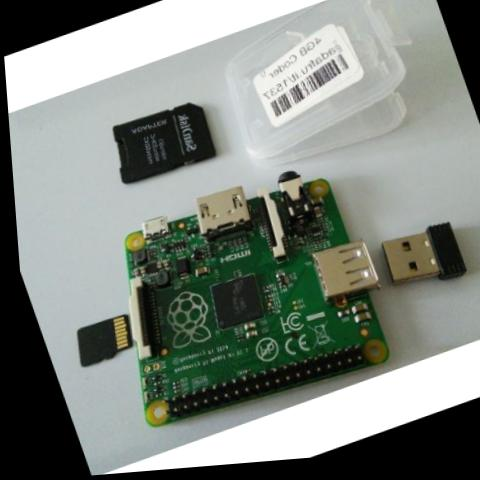Raspberry-Pi-1-Model-A-: (57, 142, 412, 462)
